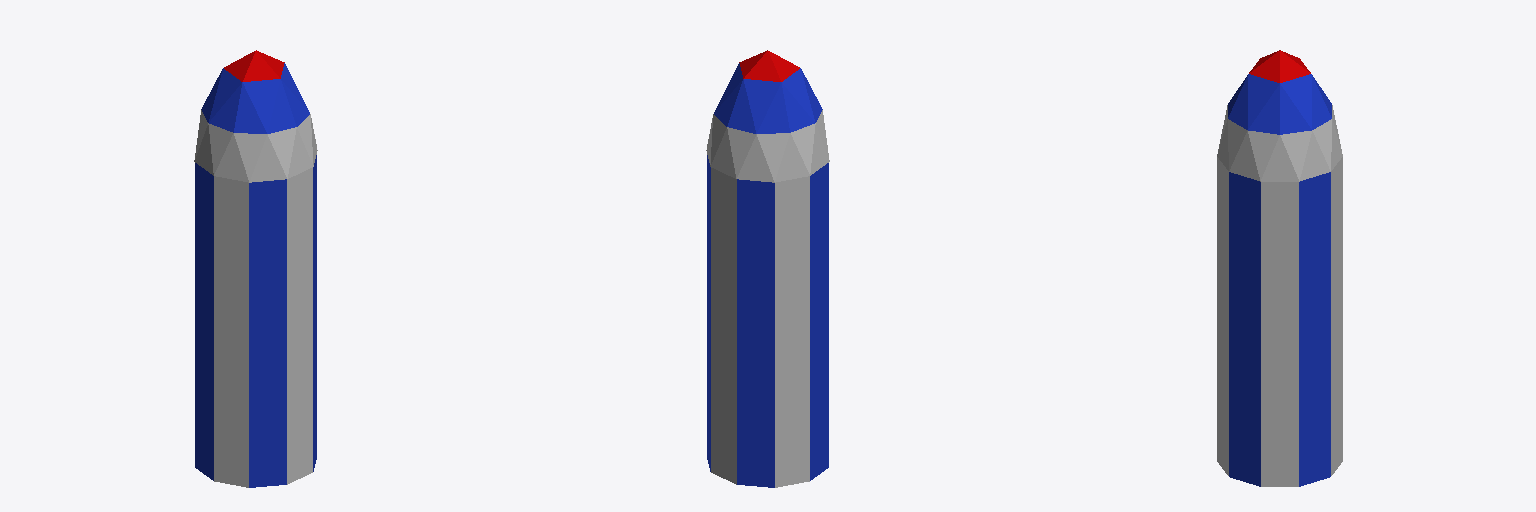
File: rocket.obj
3 views of the same model, side by side, from view 1: azimuth 30°, elevation 25°; view 2: azimuth 150°, elevation 25°; view 3: azimuth 270°, elevation 25° (orthographic).
Parts seen in each view (by area): view 1: Rocket_Cylinder.002; view 2: Rocket_Cylinder.002; view 3: Rocket_Cylinder.002.
Part boxes in pixels (bbox=[...]): Rocket_Cylinder.002: bbox=[194, 50, 317, 487]; Rocket_Cylinder.002: bbox=[706, 50, 829, 487]; Rocket_Cylinder.002: bbox=[1217, 50, 1342, 486].
Size of the model in its own units: 0.0704 by 0.2665 by 0.074.